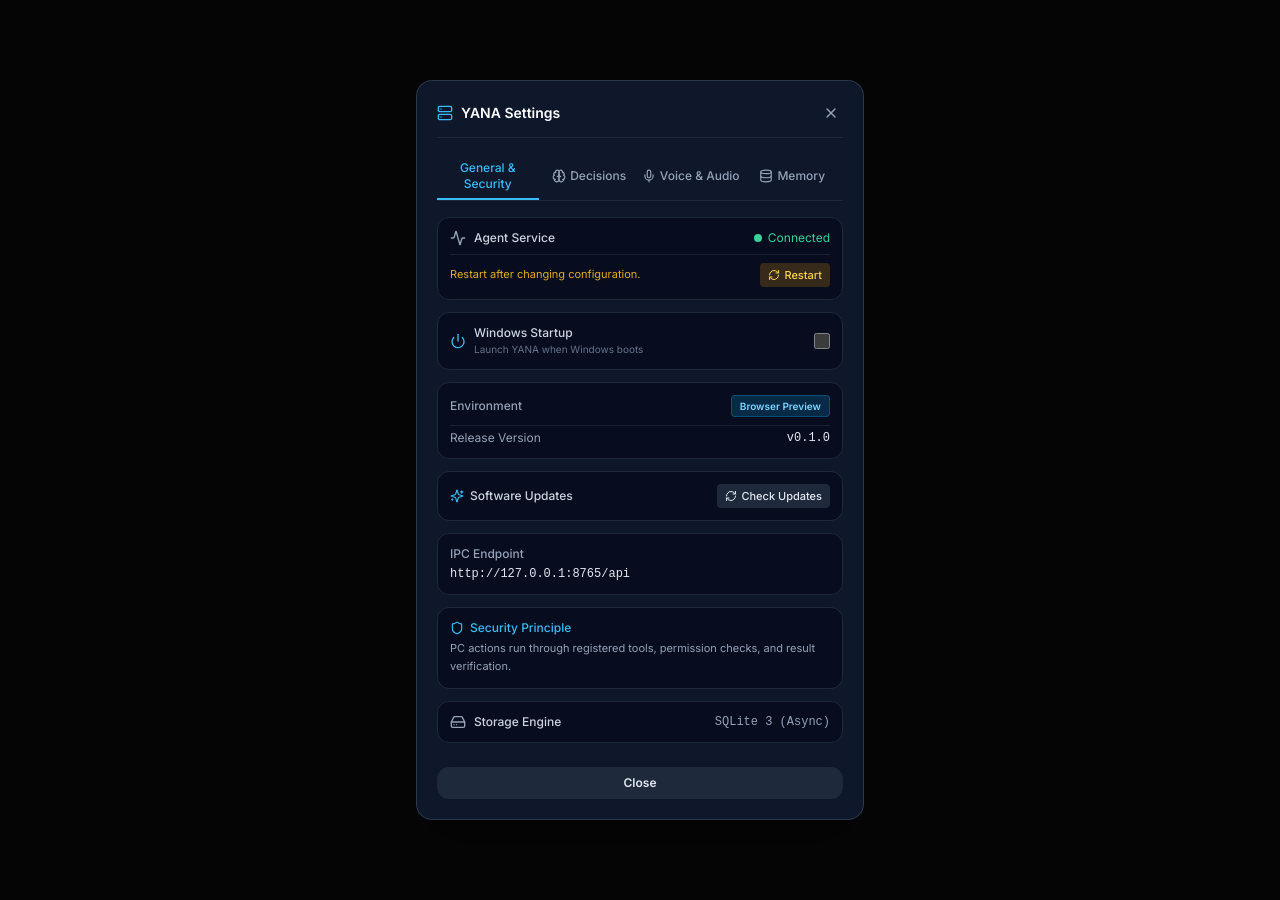
Test case: Phase 13: Windows Distribution UI Components › can restart a connected agent to reload configuration without duplicate requests
Click the button "Restart".
click(795, 275)  # box [760,263,830,287]
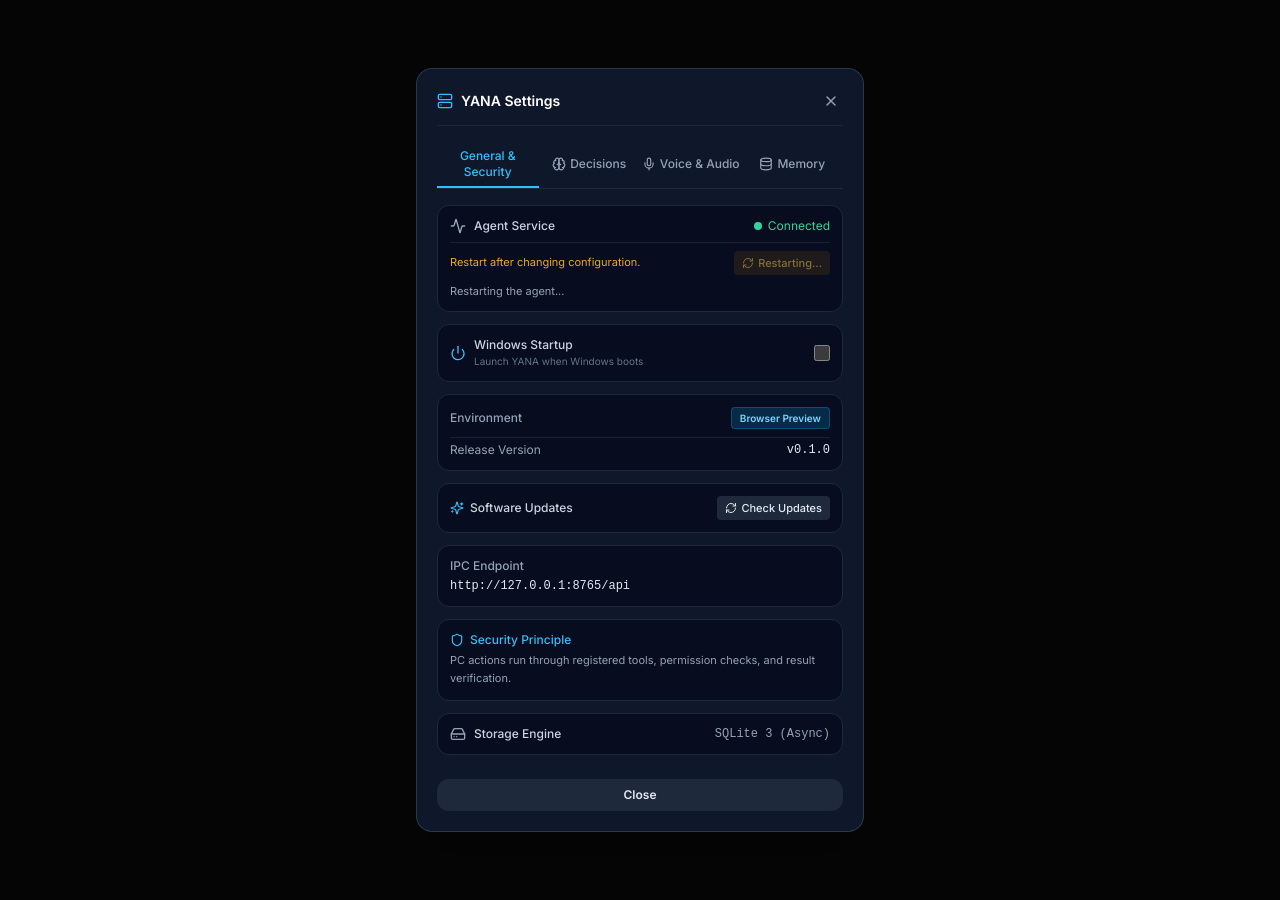
Expected: the button "Restarting..." is disabled
Expected: the text "Restarting..." is shown, [758,255,822,271]
Click the button "Restarting...".
click(782, 263)  # box [734,251,830,275]
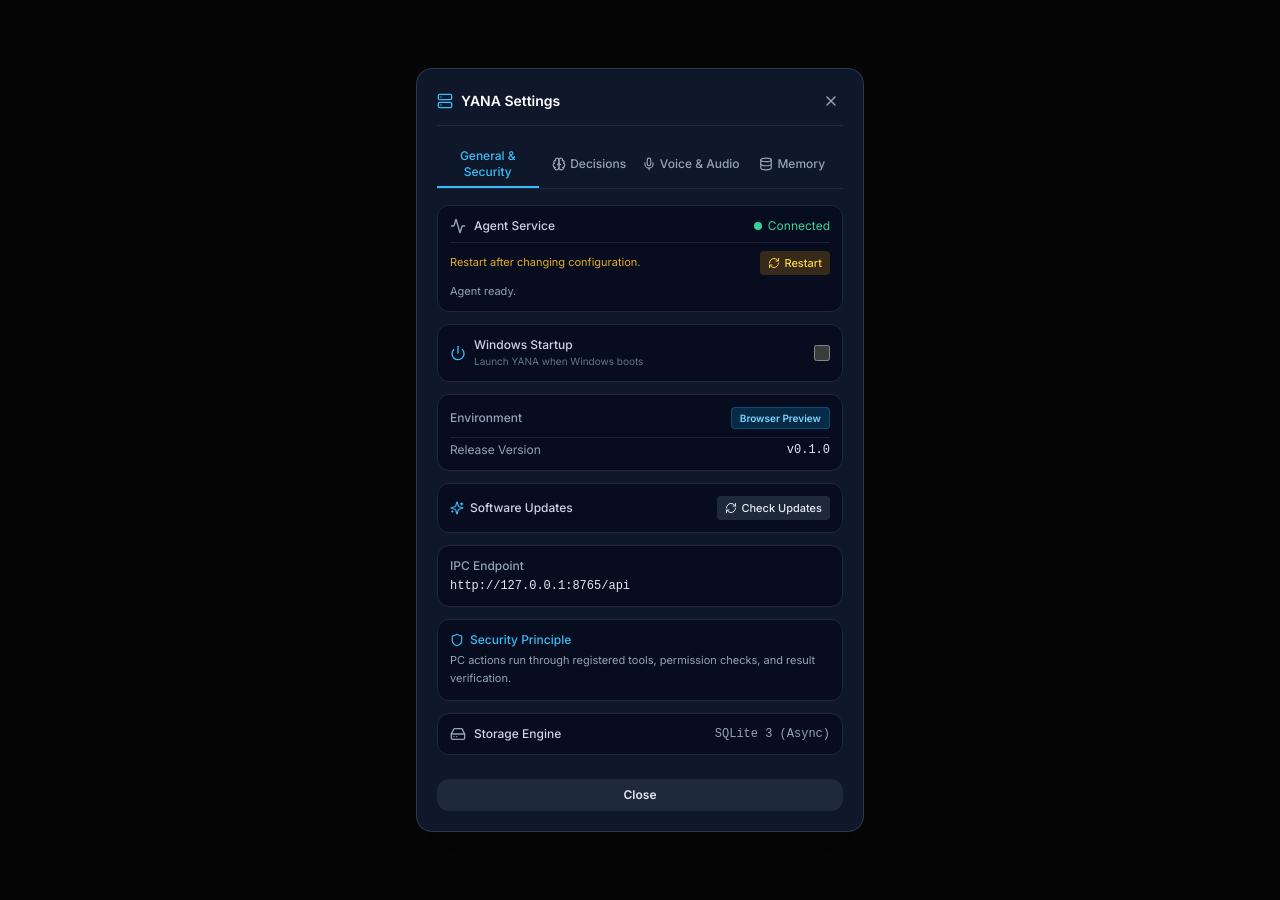
Expected: the button "Restart" is enabled, [760,251,830,275]
Expected: the message reads "Agent ready.", [450,284,516,298]
